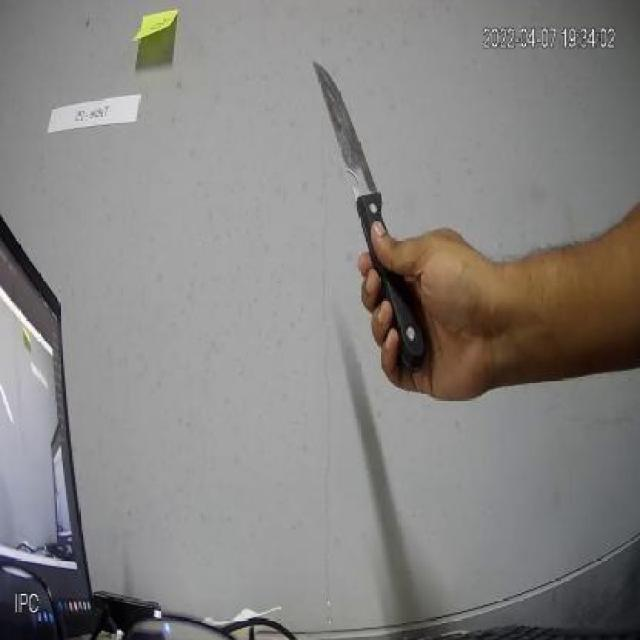Knife: (297, 55, 425, 352)
